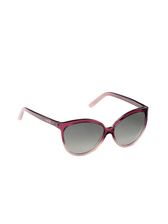glasses: (12, 90, 153, 155)
